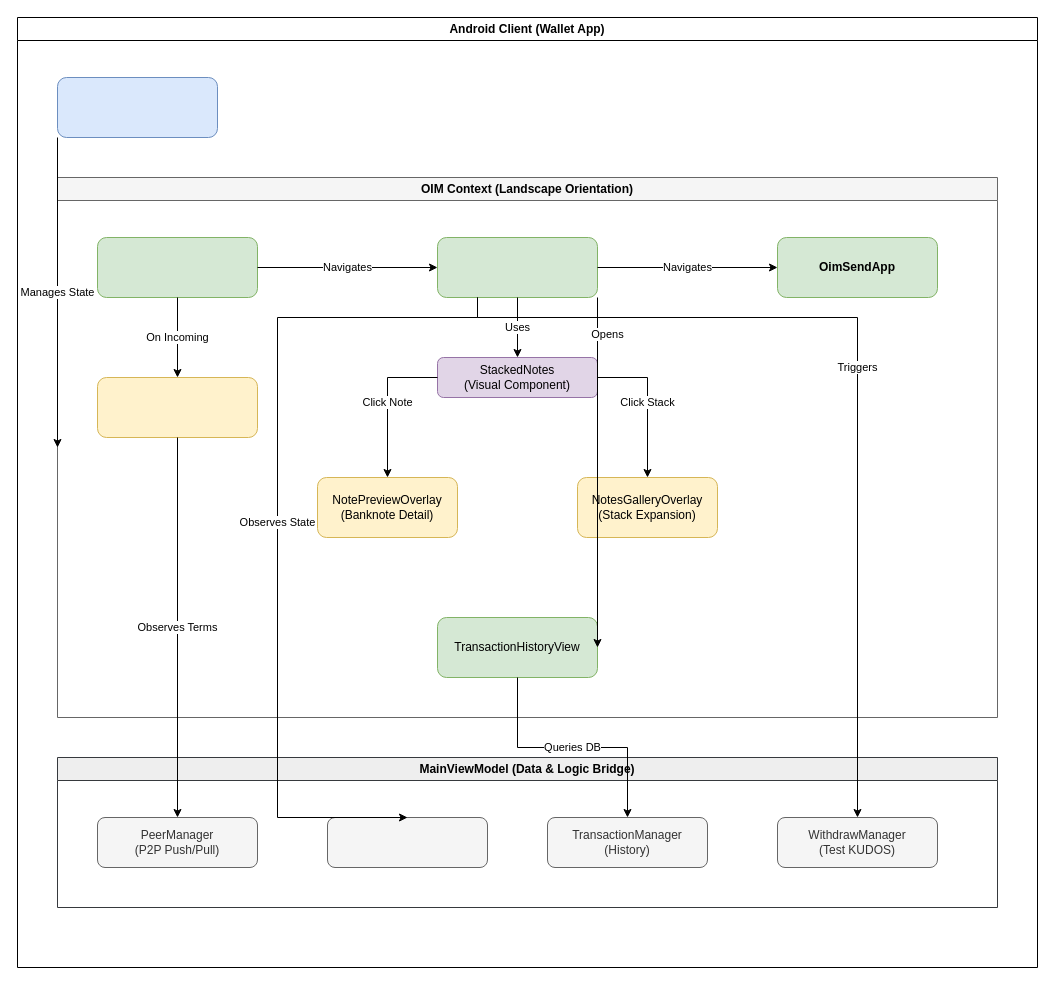
Image size: 1055x985. Some labels were removed from this diagram. The shapes that lost their labels are listed below. From the top down, each one's box as (x1, y1, x2, y2) in pixels, then its label:
(56, 76, 218, 138): MainFragment (Orchestrator)
(96, 236, 258, 298): OIMHomeScreen
(436, 236, 598, 298): OIMChestScreen
(96, 376, 258, 438): OIMReceiveScreen (Incoming Payment)
(326, 816, 488, 868): BalanceManager (Wallet State)
